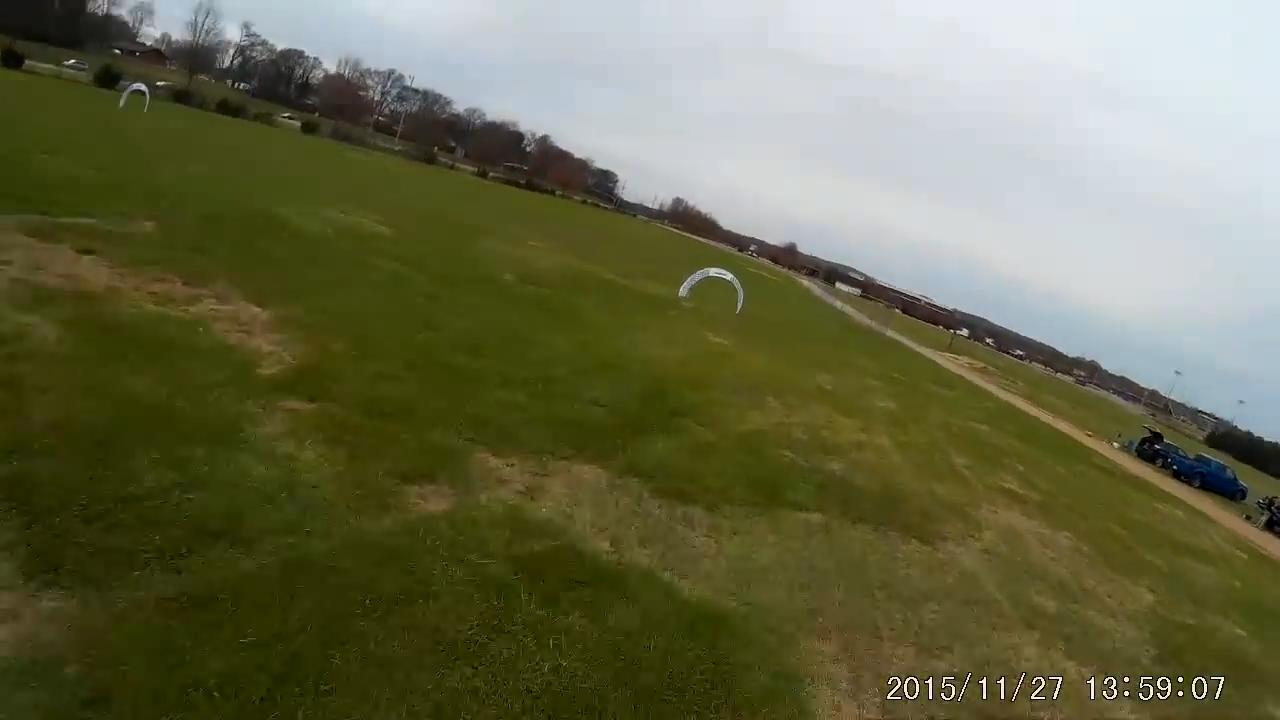gate: (678, 266, 747, 315)
